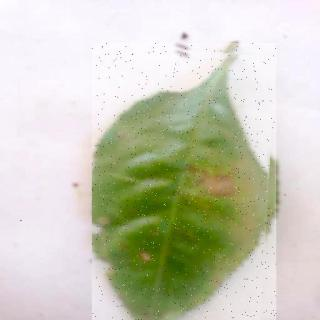Brown Blight: (93, 44, 277, 320)
